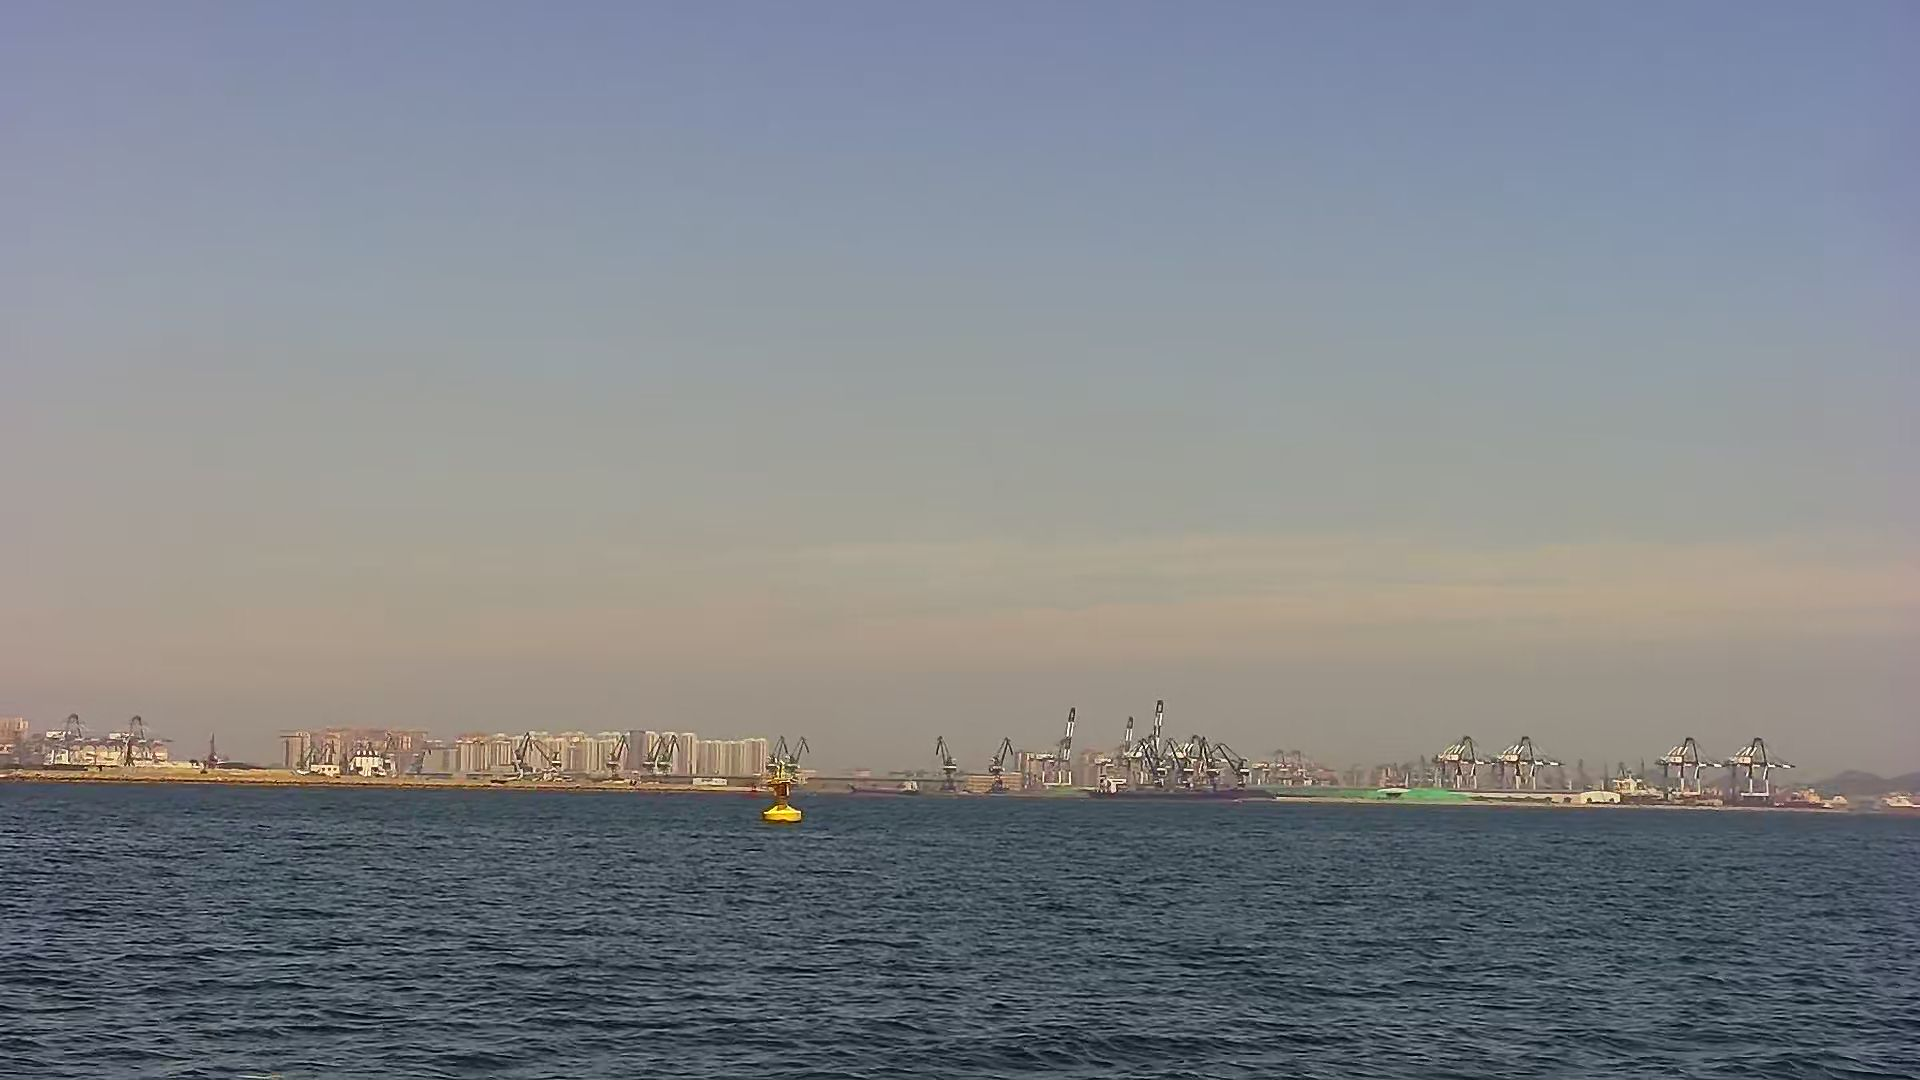buoy: (758, 765, 806, 824)
